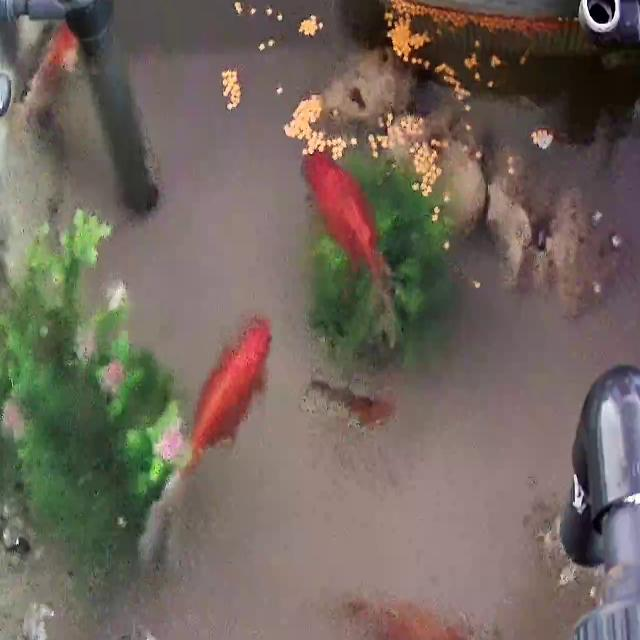fish: (308, 147, 382, 330), (188, 318, 274, 466), (15, 22, 81, 132), (347, 594, 456, 640), (310, 377, 396, 428)
